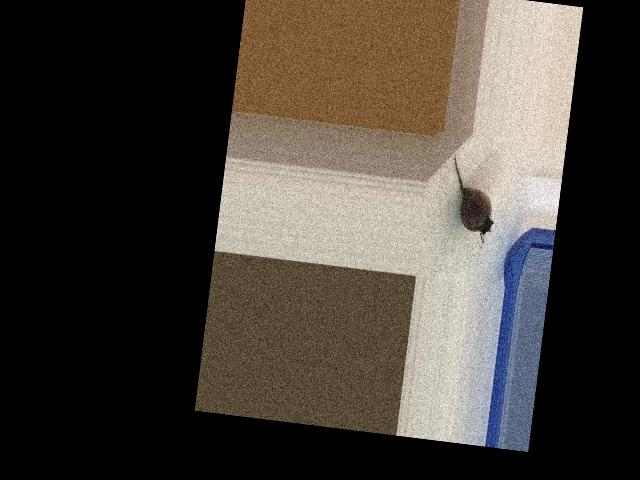beet: (443, 154, 500, 243)
